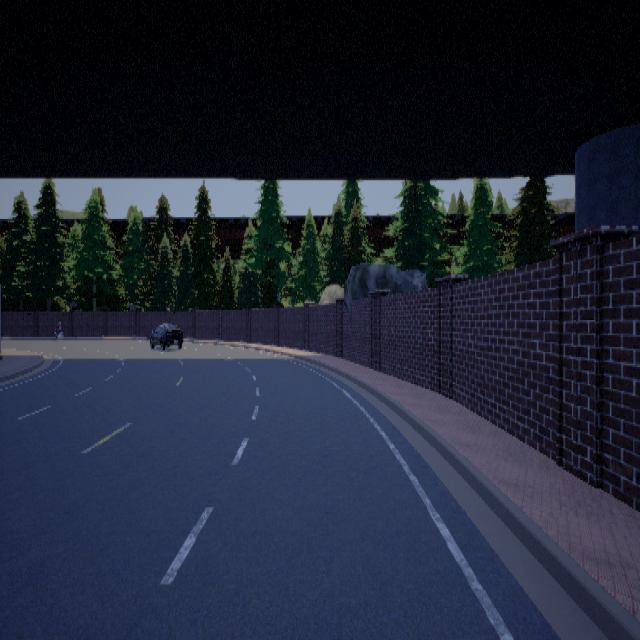vehicle: (149, 322, 182, 348)
